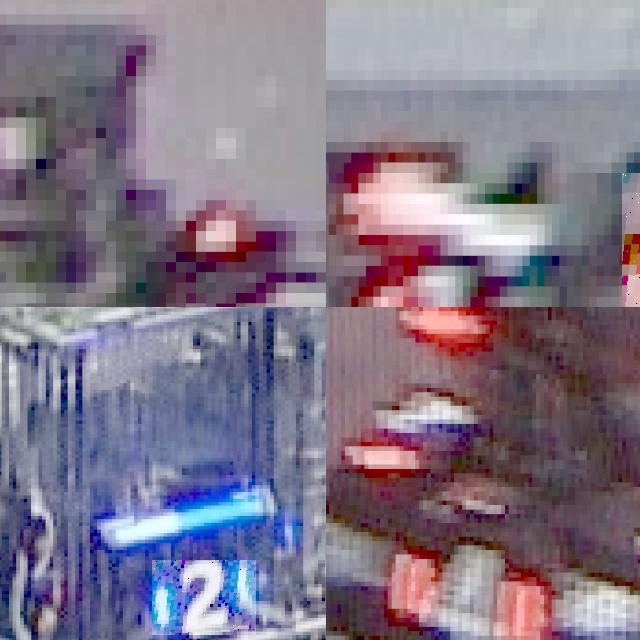B2: (152, 560, 256, 635)
R3: (328, 235, 492, 307)
R4: (384, 541, 552, 640)
